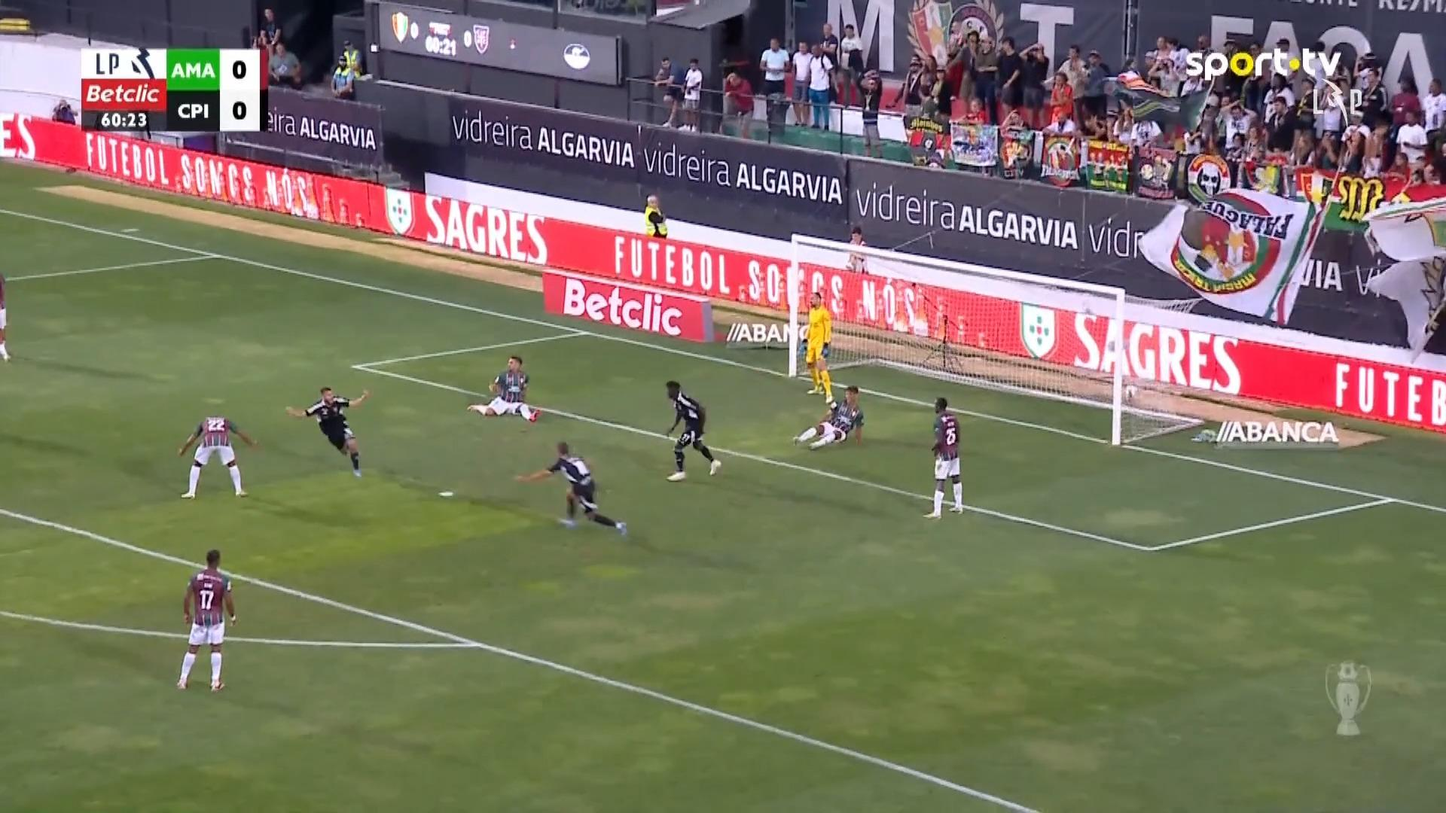goalkeeper: (801, 291, 835, 403)
player: (513, 440, 627, 537), (175, 548, 237, 692), (284, 385, 370, 477), (176, 414, 258, 499), (664, 379, 721, 481), (922, 396, 964, 519), (466, 355, 541, 422), (791, 384, 865, 450), (826, 384, 865, 444), (0, 273, 11, 361)
